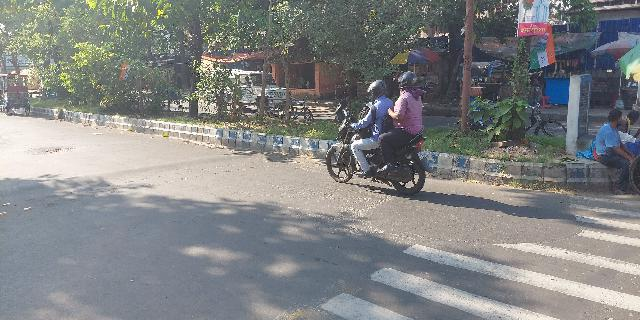Car: (321, 71, 430, 196)
